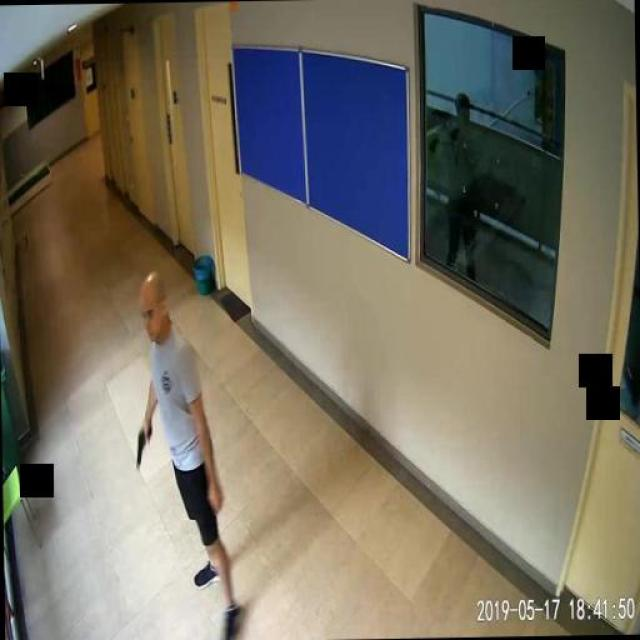gun: (132, 422, 152, 467)
